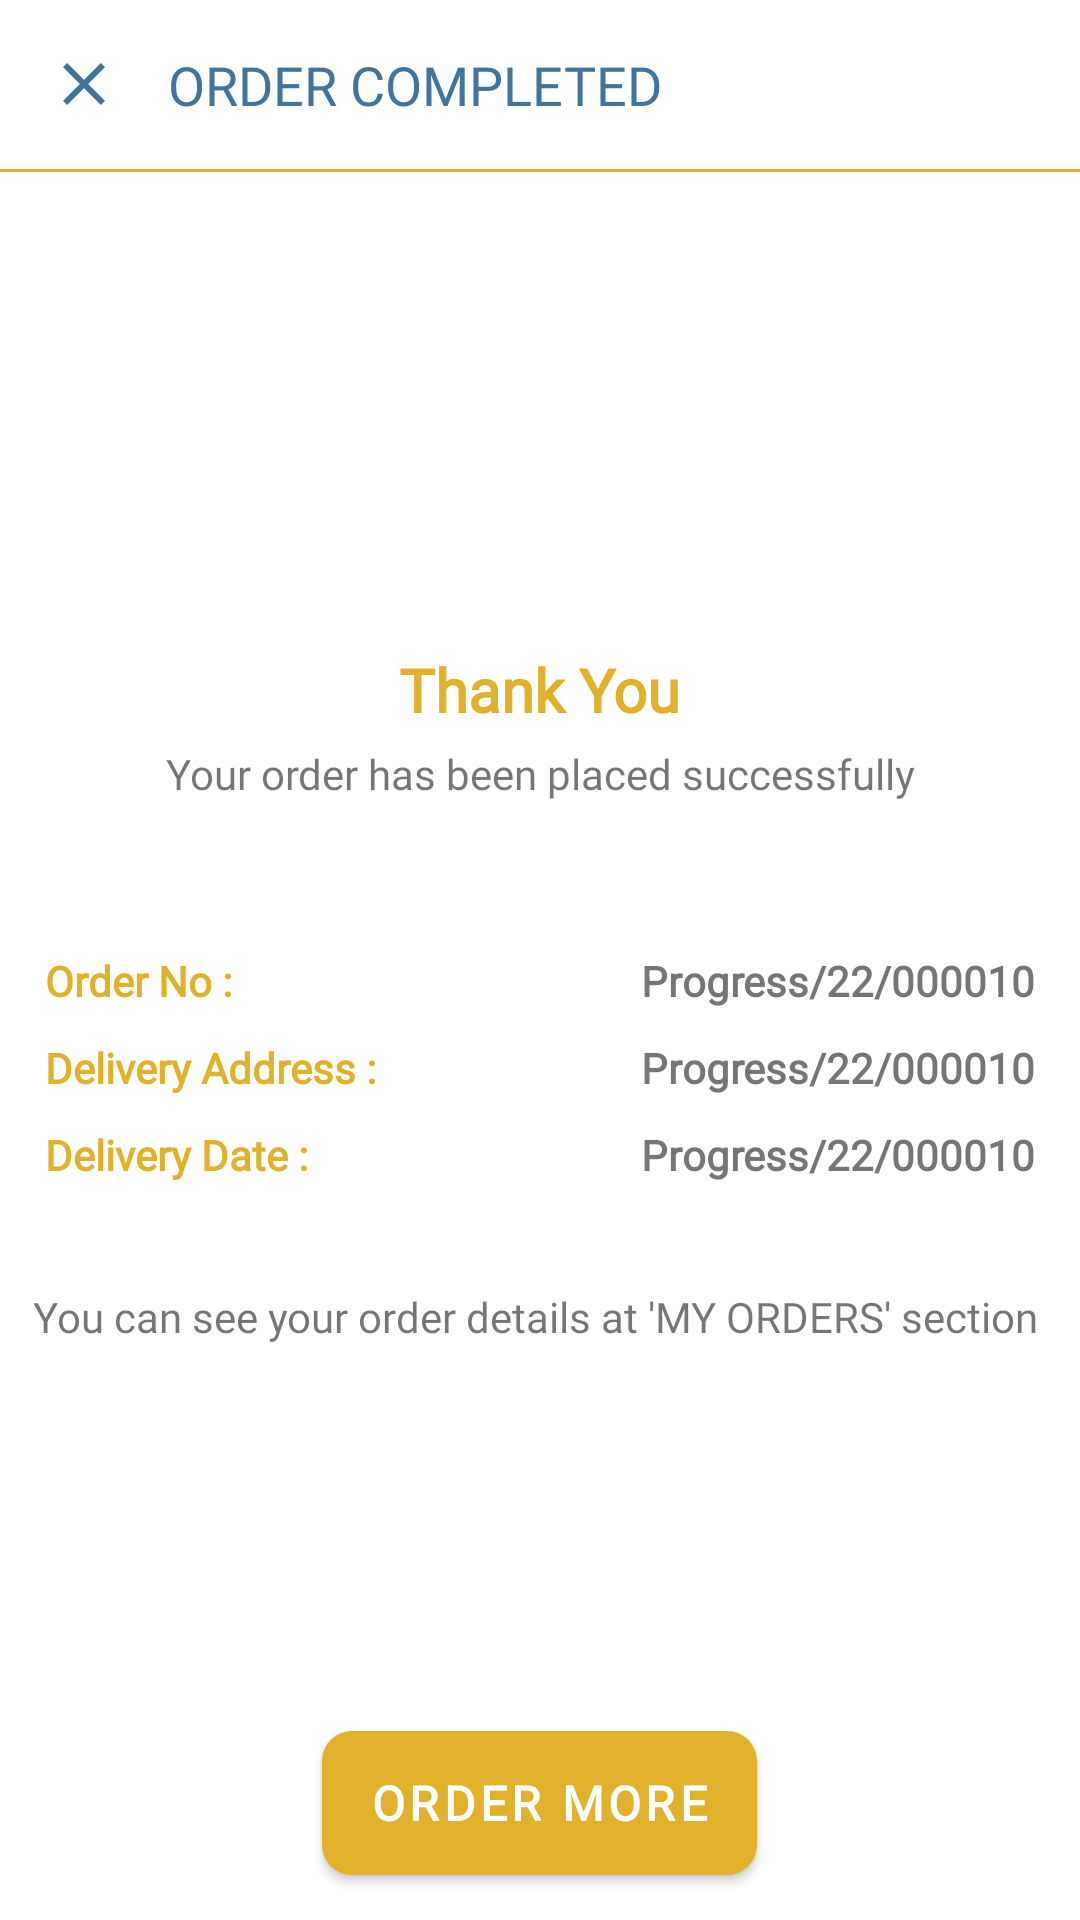

Icons on this 1080px×1920px Android screen, each with the point to tap as point (x, y):
close: point (84, 84)
